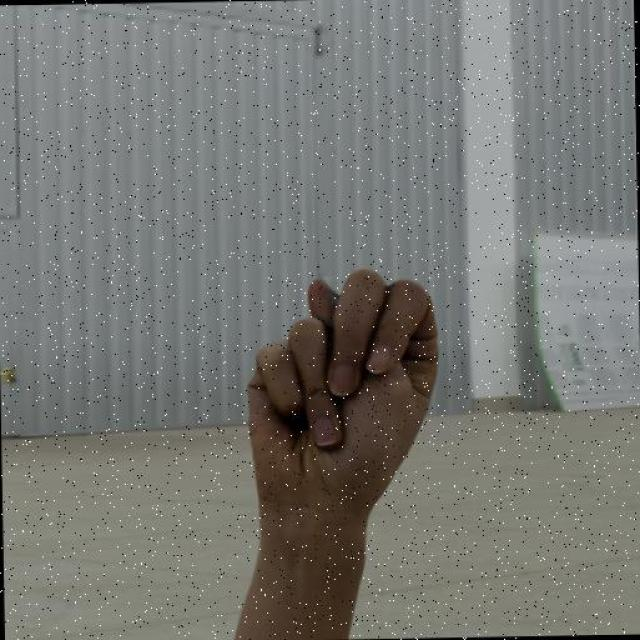N: (243, 266, 442, 520)
